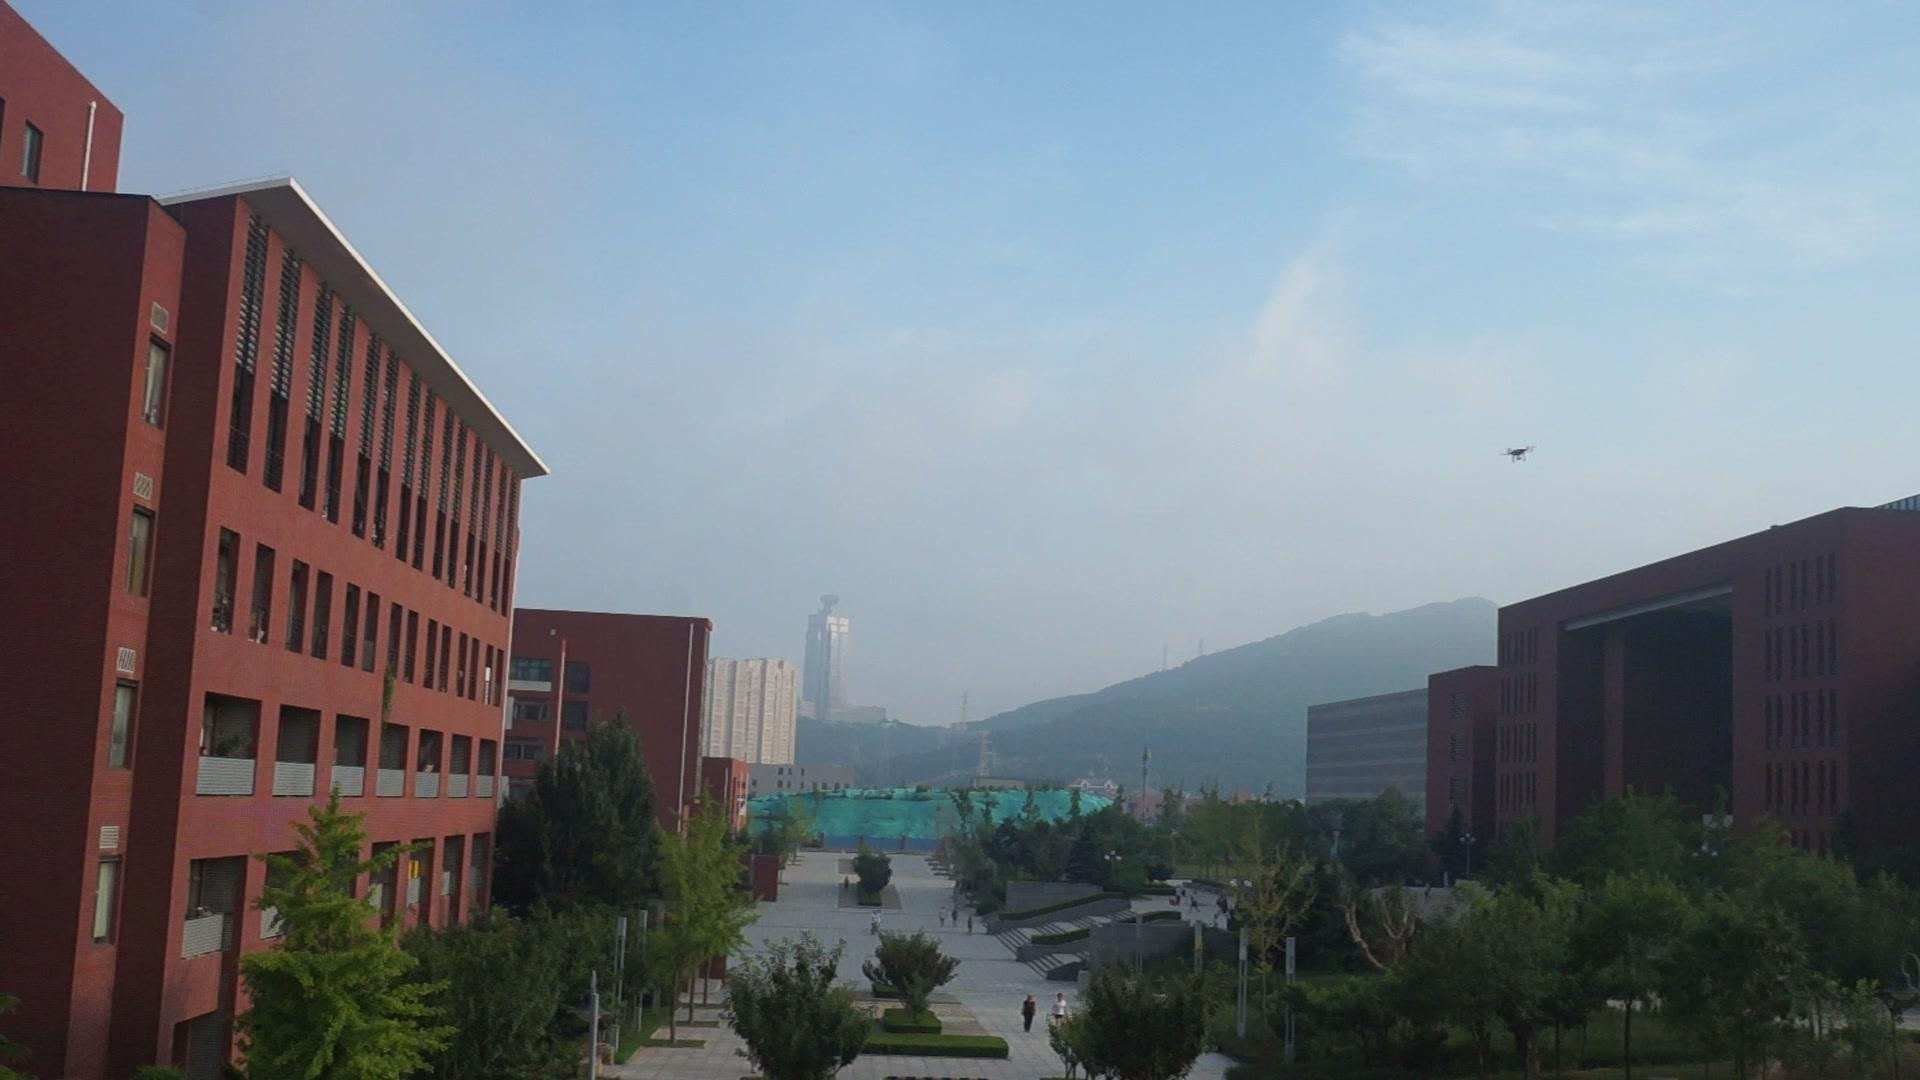UAV: (1499, 446, 1538, 464)
